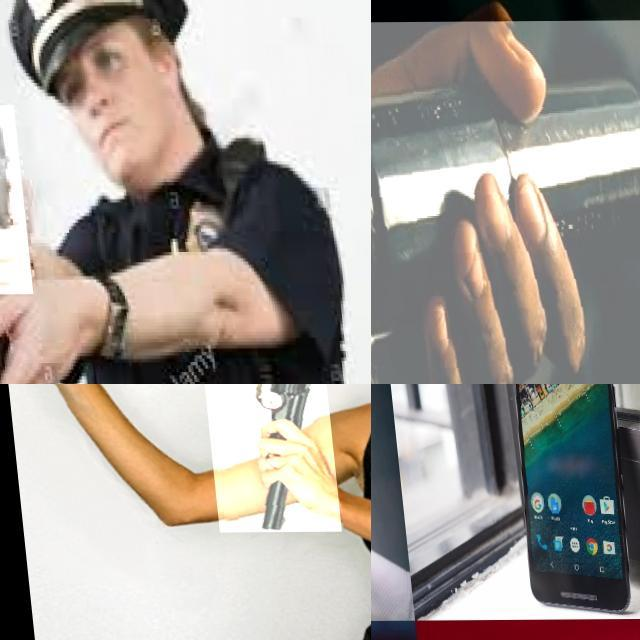gun-knife-thesis - v11 Yolov5 augmented: (371, 21, 640, 384), (190, 384, 332, 532), (0, 105, 71, 295)
